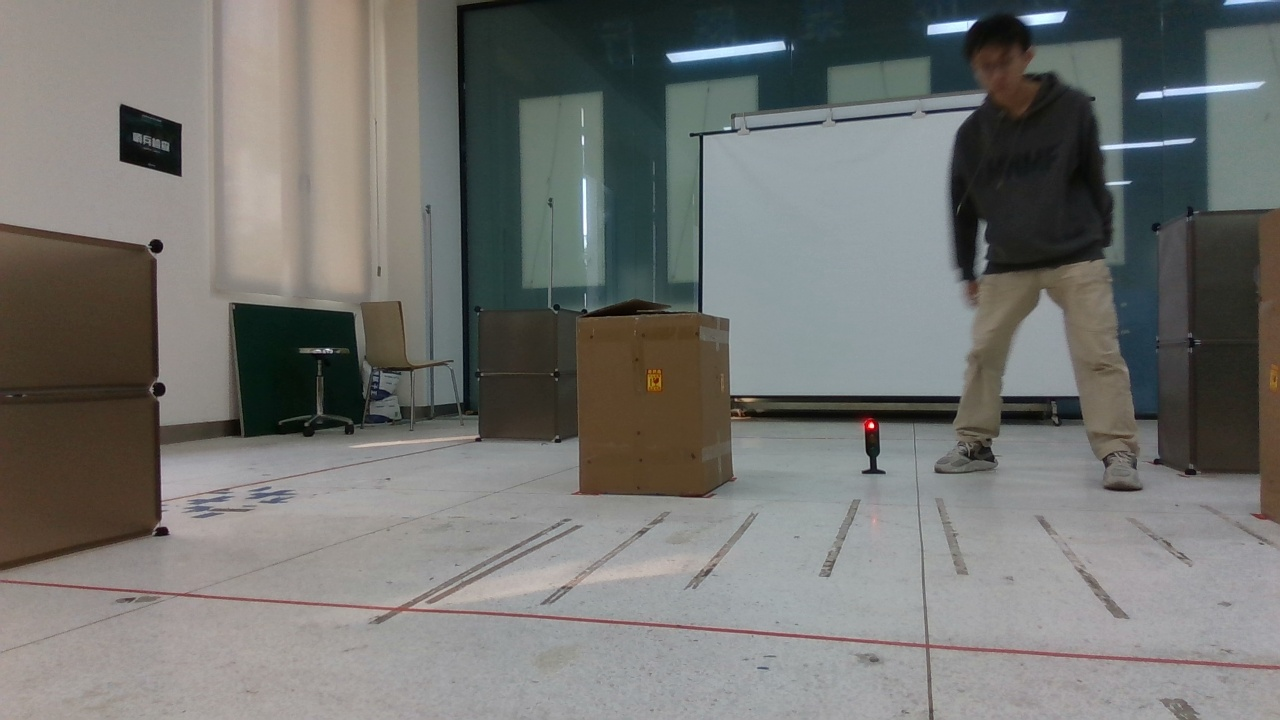red_light: (846, 408, 900, 483)
